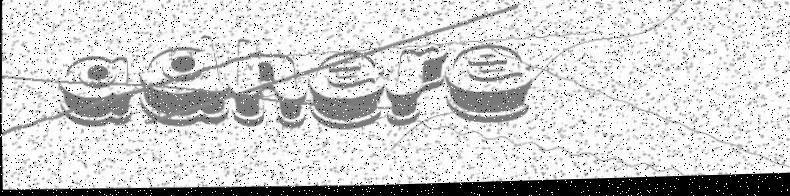a: (55, 53, 133, 129)
d: (136, 34, 231, 130)
e: (443, 45, 530, 128), (307, 51, 385, 132)
h: (229, 37, 310, 132)
r: (383, 48, 445, 130)
